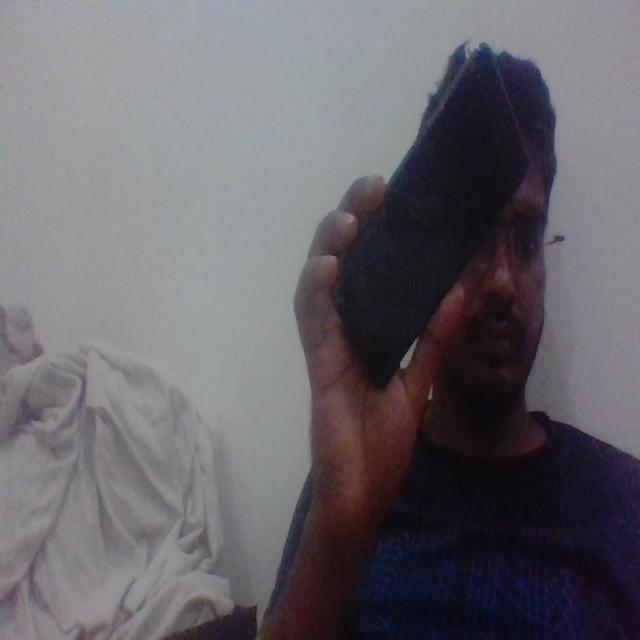Phone: (330, 57, 527, 391)
